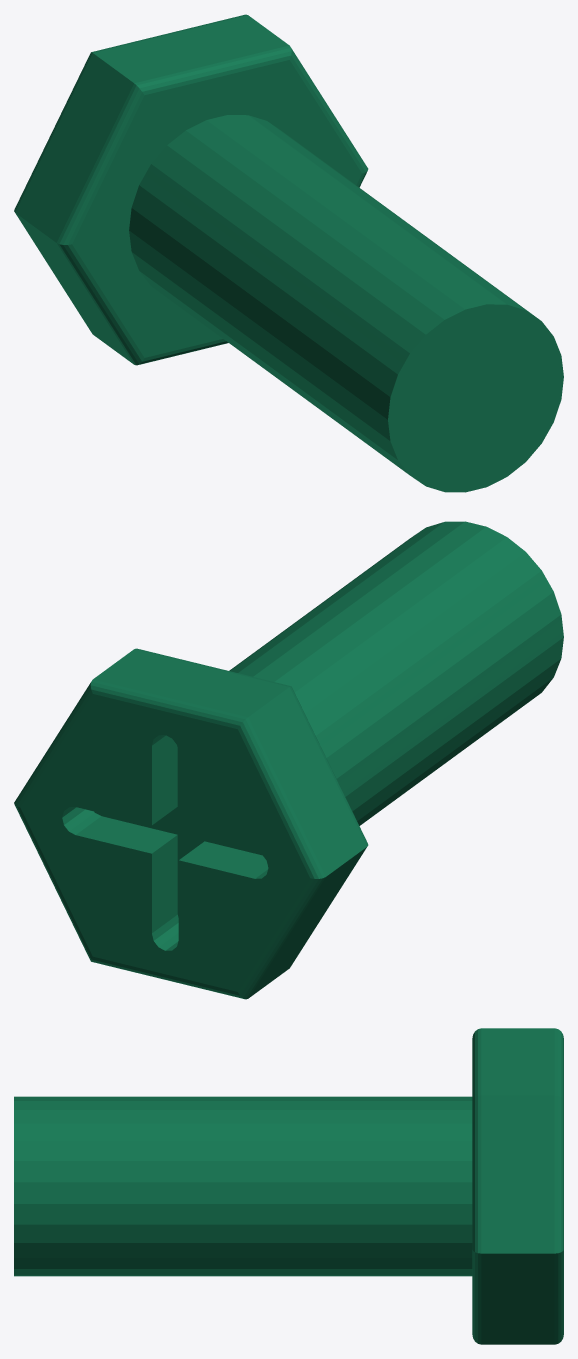
The model's file is asset_socket.obj.
3 renders of one model, top to bottom at view 1: azimuth 30°, elevation 25°; view 2: azimuth 150°, elevation 25°; view 3: azimuth 270°, elevation 25°, orthographic. The views are drawn at different scales.
Bounding box in the file's own units: 0.0728 × 0.0631 × 0.1261.
